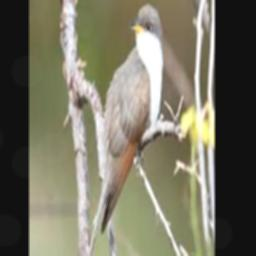Cuckoo: (77, 4, 165, 256)
